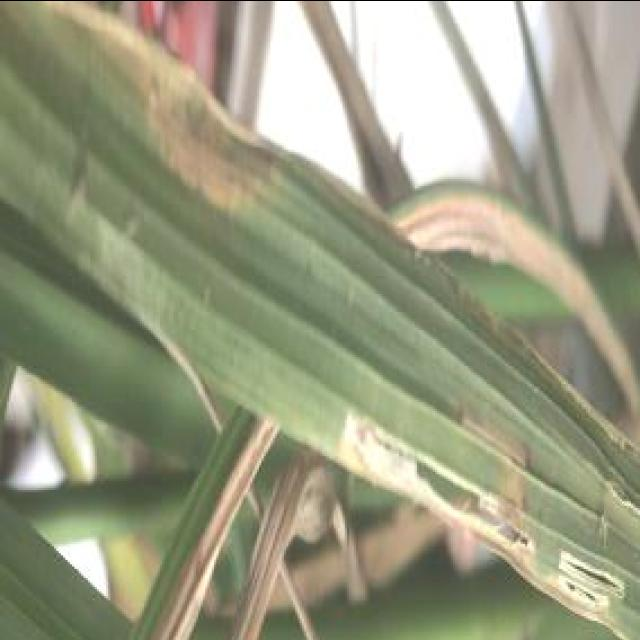Bacterial_Leaf_Blight: (0, 21, 359, 307)
